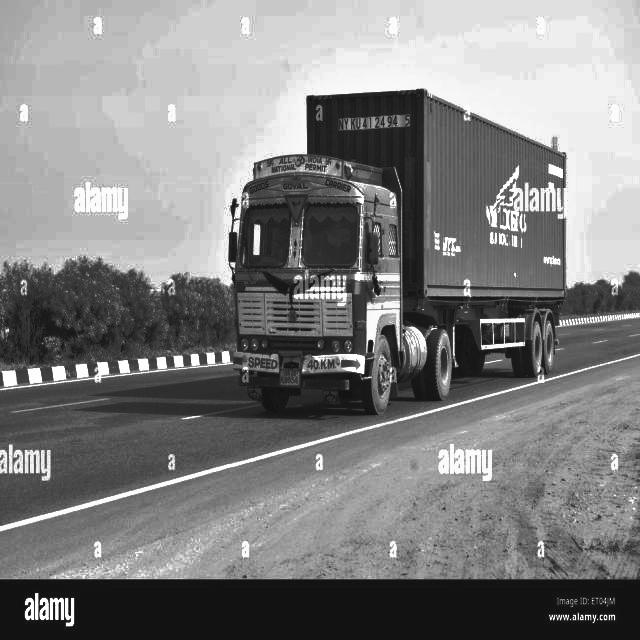HCV: (211, 70, 605, 424)
